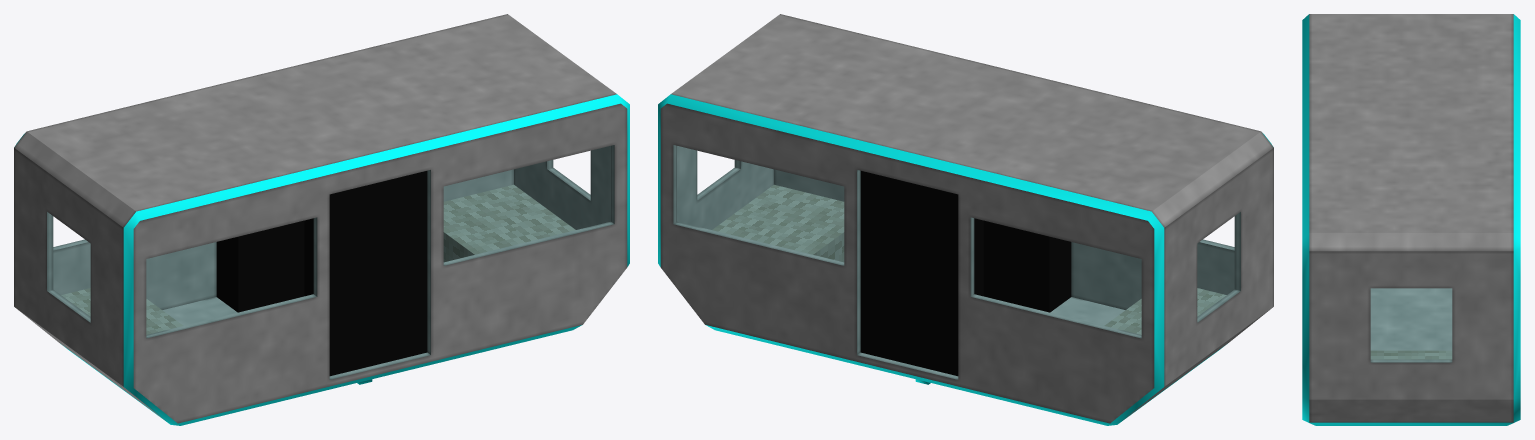
File: onyx_hypertrain.obj
The picture shows the model from 3 angles, left to right: view 1: azimuth 30°, elevation 25°; view 2: azimuth 150°, elevation 25°; view 3: azimuth 270°, elevation 25°; orthographic projection. The views are drawn at different scales.
Visible parts, largest first — view 1: FRAME, FRAME_neon_FULLBRIGHT, DOOR_4_TL_-0.5_X_CG_doorleft_GLOBAL_FULLBRIGHT_EXTERNAL, DOOR_3_TL_0.5_X_CG_doorleft_GLOBAL_FULLBRIGHT_EXTERNAL, DOOR_2_TL_-0.5_X_CG_doorright_GLOBAL_FULLBRIGHT_EXTERNAL, SEAT_3, DOOR_1_TL_0.5_X_CG_doorright_GLOBAL_FULLBRIGHT_EXTERNAL, SEAT_1, SEAT_4; view 2: FRAME, FRAME_neon_FULLBRIGHT, DOOR_2_TL_-0.5_X_CG_doorright_GLOBAL_FULLBRIGHT_EXTERNAL, DOOR_1_TL_0.5_X_CG_doorright_GLOBAL_FULLBRIGHT_EXTERNAL, DOOR_4_TL_-0.5_X_CG_doorleft_GLOBAL_FULLBRIGHT_EXTERNAL, SEAT_4, DOOR_3_TL_0.5_X_CG_doorleft_GLOBAL_FULLBRIGHT_EXTERNAL, SEAT_2, SEAT_3; view 3: FRAME, FRAME_neon_FULLBRIGHT, SEAT_3, SEAT_4.
Part boxes in pixels (x1,y1,x2,y2): FRAME: (14, 14, 627, 423); FRAME_neon_FULLBRIGHT: (15, 94, 629, 425); DOOR_4_TL_-0.5_X_CG_doorleft_GLOBAL_FULLBRIGHT_EXTERNAL: (304, 183, 376, 376); DOOR_3_TL_0.5_X_CG_doorleft_GLOBAL_FULLBRIGHT_EXTERNAL: (376, 171, 427, 364); DOOR_2_TL_-0.5_X_CG_doorright_GLOBAL_FULLBRIGHT_EXTERNAL: (216, 224, 288, 312); SEAT_3: (443, 184, 568, 249); DOOR_1_TL_0.5_X_CG_doorright_GLOBAL_FULLBRIGHT_EXTERNAL: (289, 220, 304, 299); SEAT_1: (61, 288, 175, 327); SEAT_4: (468, 225, 575, 254); FRAME: (660, 14, 1273, 423); FRAME_neon_FULLBRIGHT: (658, 94, 1272, 425); DOOR_2_TL_-0.5_X_CG_doorright_GLOBAL_FULLBRIGHT_EXTERNAL: (911, 183, 983, 376); DOOR_1_TL_0.5_X_CG_doorright_GLOBAL_FULLBRIGHT_EXTERNAL: (860, 171, 911, 364); DOOR_4_TL_-0.5_X_CG_doorleft_GLOBAL_FULLBRIGHT_EXTERNAL: (999, 224, 1071, 312); SEAT_4: (719, 184, 844, 249); DOOR_3_TL_0.5_X_CG_doorleft_GLOBAL_FULLBRIGHT_EXTERNAL: (983, 220, 998, 299); SEAT_2: (1112, 288, 1226, 327); SEAT_3: (712, 225, 819, 254); FRAME: (1309, 14, 1513, 422); FRAME_neon_FULLBRIGHT: (1302, 14, 1520, 425); SEAT_3: (1411, 350, 1452, 359); SEAT_4: (1370, 350, 1411, 359).
Bounding box in the file's own units: 5 × 2.25 × 2.
Materials: 5 (5 with a texture image).
